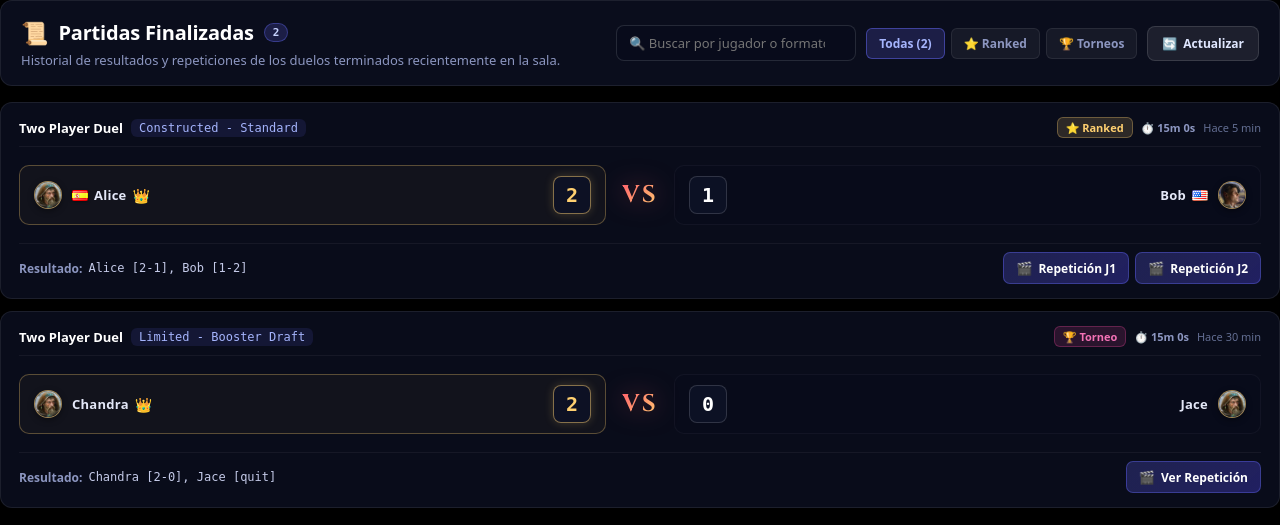
Test: FinishedMatchesPanel component › filters matches by search query
Expected: the text "Alice" is shown, [94,186,127,204]
Type "Chandra" into the field with placeholder "🔍 Buscar por jugador o formato…" at (736, 43), box [616,25,856,61]
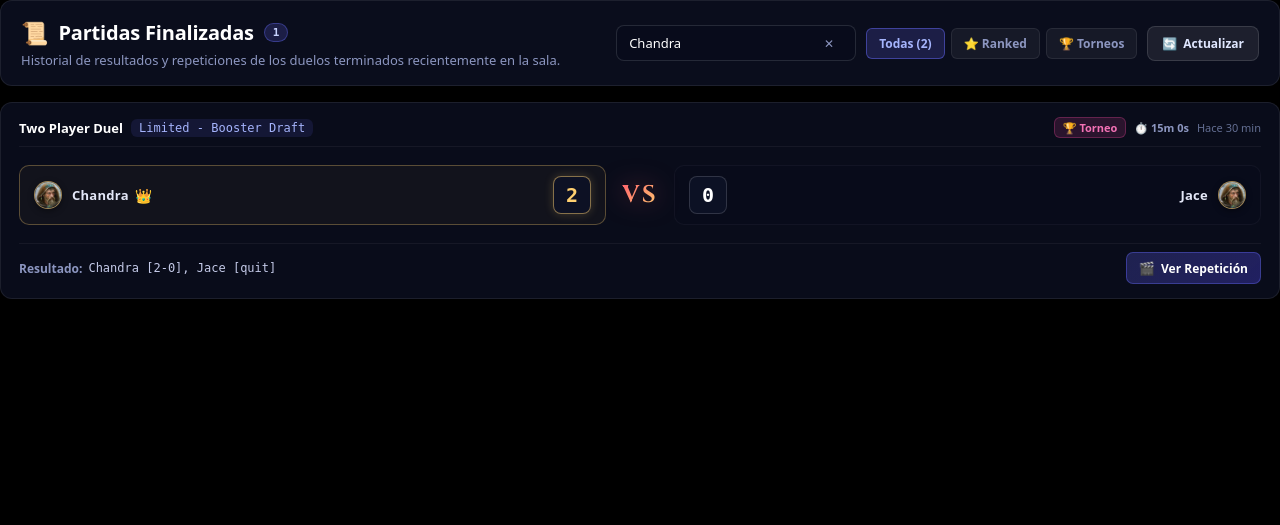
Expected: the text "Chandra" is shown, [72,186,129,204]
Expected: the text "Alice" is gone
